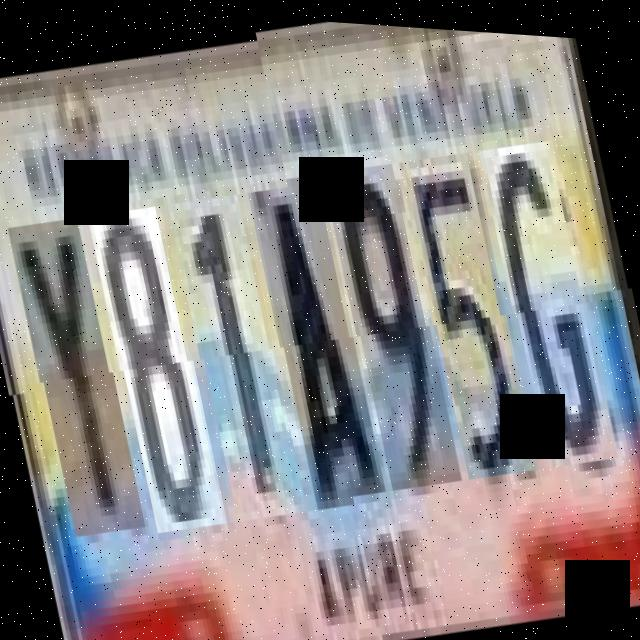1: (170, 178, 306, 514)
5: (403, 141, 538, 476)
8: (90, 191, 225, 526)
9: (326, 153, 462, 488)
A: (248, 166, 386, 501)
G: (482, 128, 618, 463)
Y: (9, 204, 143, 531)
